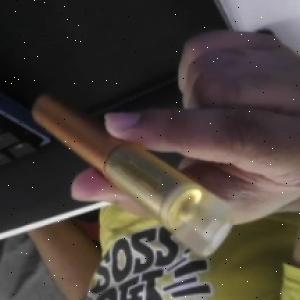Golden-E-Ciggirate: (27, 92, 237, 258)
